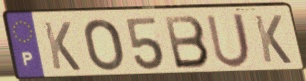5: (125, 15, 166, 72)
B: (162, 14, 212, 71)
K: (41, 20, 83, 73), (252, 13, 294, 66)
O: (82, 17, 126, 73)
U: (204, 11, 253, 70)
